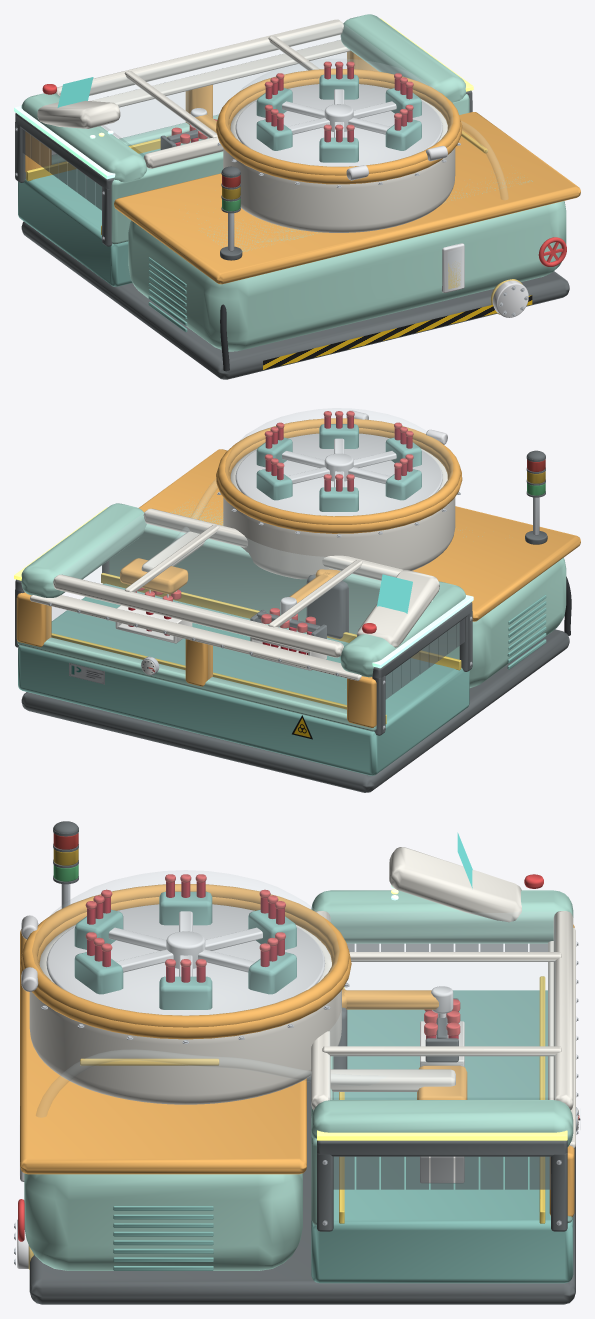
Rendered from tp_centrifuga.glb.
The picture shows the model from 3 angles, top to bottom: view 1: azimuth 30°, elevation 25°; view 2: azimuth 150°, elevation 25°; view 3: azimuth 270°, elevation 25°; orthographic projection. The views are drawn at different scales.
Parts seen in each view (by area): view 1: cuerpo, cinto, cupula_vidrio, tunel_tapa, tambor, zocalo, tunel_suelo, cuba, tunel_remate1, cupula_aro, tunel_larguero1, tunel_remate-1 (+29 smaller); view 2: tunel_suelo, tunel_tapa, cupula_vidrio, cinto, zocalo, tunel_ventana, tambor, tunel_trasera, cuba, cuerpo, tunel_remate1, cupula_aro (+30 smaller); view 3: tunel_suelo, tunel_tapa, cupula_vidrio, cinto, cuerpo, tambor, zocalo, cuba, tunel_remate-1, cupula_aro, tunel_remate1, consola (+39 smaller).
Part boxes in pixels (bbox=[...]): cuerpo: bbox=[128, 177, 566, 351]; cinto: bbox=[114, 112, 580, 284]; cupula_vidrio: bbox=[225, 59, 452, 166]; tunel_tapa: bbox=[60, 24, 424, 155]; tambor: bbox=[223, 88, 455, 232]; zocalo: bbox=[21, 221, 569, 379]; tunel_suelo: bbox=[18, 138, 208, 286]; cuba: bbox=[235, 84, 442, 166]; tunel_remate1: bbox=[340, 14, 466, 102]; cupula_aro: bbox=[217, 68, 460, 175]; tunel_larguero1: bbox=[55, 19, 343, 95]; tunel_remate-1: bbox=[21, 93, 146, 182]; tunel_suelo: bbox=[18, 583, 469, 775]; tunel_tapa: bbox=[61, 513, 397, 644]; cupula_vidrio: bbox=[225, 408, 452, 515]; cinto: bbox=[139, 449, 580, 621]; zocalo: bbox=[21, 629, 569, 792]; tunel_ventana: bbox=[47, 606, 346, 713]; tambor: bbox=[223, 437, 455, 579]; tunel_trasera: bbox=[109, 524, 459, 659]; cuba: bbox=[235, 433, 442, 516]; cuerpo: bbox=[170, 501, 566, 687]; tunel_remate1: bbox=[21, 503, 146, 597]; cupula_aro: bbox=[217, 418, 460, 524]; tunel_suelo: bbox=[311, 990, 573, 1283]; tunel_tapa: bbox=[328, 912, 555, 1099]; cupula_vidrio: bbox=[32, 870, 339, 1015]; cinto: bbox=[20, 929, 306, 1174]; cuerpo: bbox=[24, 1173, 302, 1270]; tambor: bbox=[29, 910, 341, 1104]; zocalo: bbox=[29, 1076, 575, 1304]; cuba: bbox=[46, 904, 325, 1015]; tunel_remate-1: bbox=[311, 890, 573, 943]; cupula_aro: bbox=[22, 884, 349, 1027]; tunel_remate1: bbox=[311, 1100, 573, 1146]; consola: bbox=[389, 847, 521, 922].
Bounding box in the file's own units: 2.06 × 1.2 × 2.03.
Materials: 32 (3 with a texture image).
